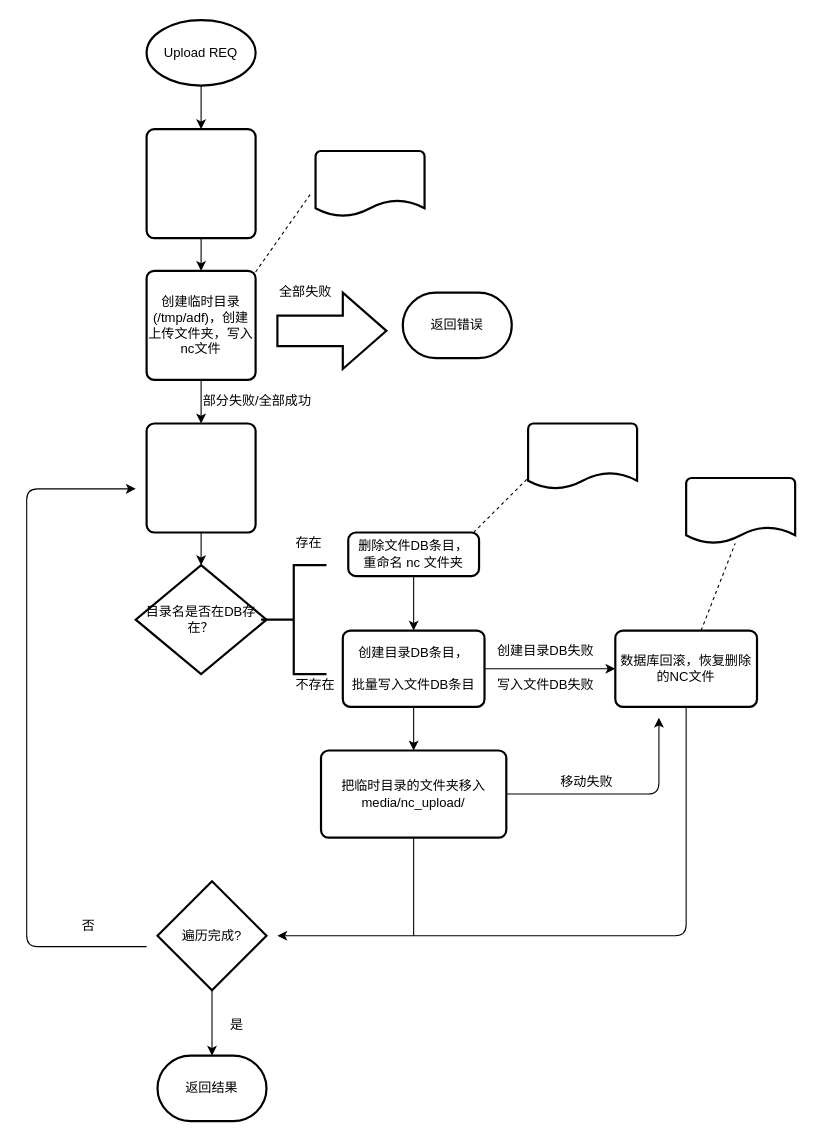
The diagram is 815 pixels wide and 1140 high, and some of its shapes have lost their labels. The centre of each missing label's shape, as x and y in pixels:
"dir1 -> dir1.delete.adf" goes at [582,455].
"dir1.delete.adf -> dir1" goes at [740,510].
"tempfile.mktemp" goes at [369,183].
"解析file，得到目录名和文件名列表" goes at [200,183].
"遍历成功的上传目录" goes at [200,477].
